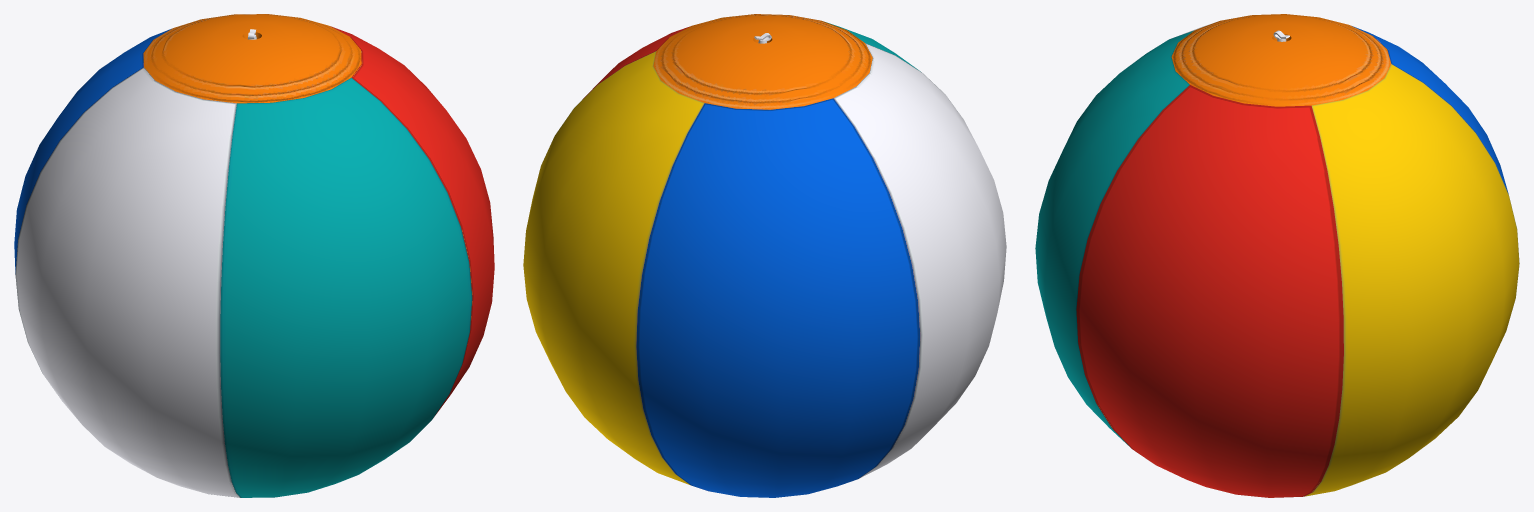
File: pelota de playa.fbx
3 renders of one model, left to right at view 1: azimuth 30°, elevation 25°; view 2: azimuth 150°, elevation 25°; view 3: azimuth 270°, elevation 25°, orthographic.
Visible parts, largest first — view 1: node_id6; view 2: node_id6; view 3: node_id6.
Boxes of the visible parts, x1,y1,x2,y2 form: node_id6: (14, 14, 494, 497); node_id6: (523, 14, 1006, 497); node_id6: (1035, 14, 1519, 497).
Size of the model in its own units: 0.5077 by 0.5119 by 0.5076.
1 material, 1 textured.
